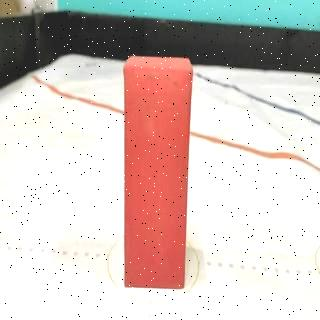redbox: (125, 56, 193, 290)
